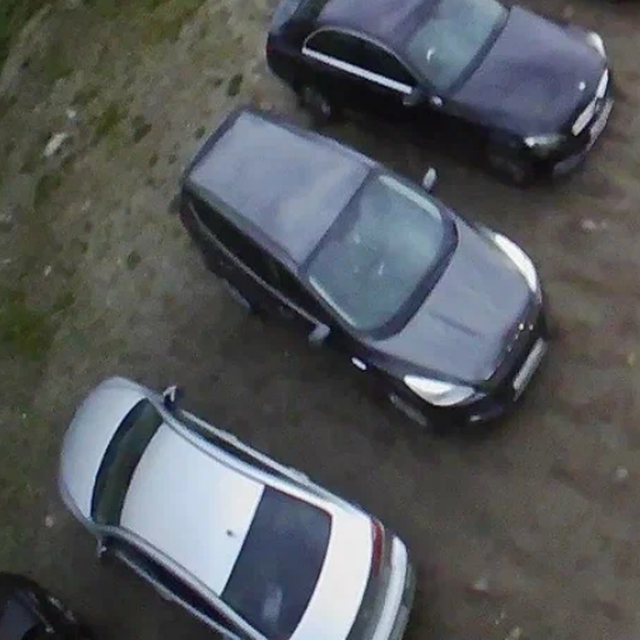car: (184, 107, 554, 430), (57, 375, 415, 640), (265, 1, 609, 186)
